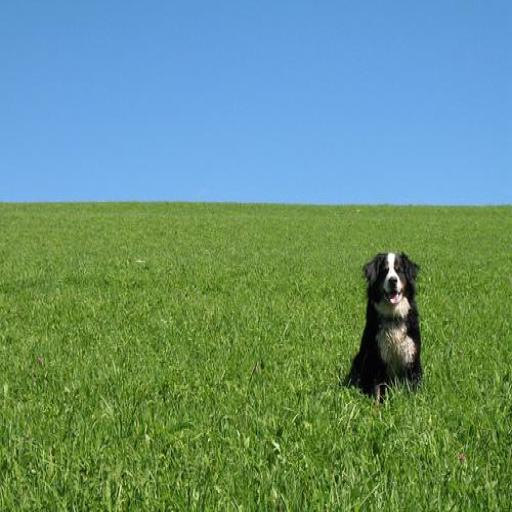dog_face: (361, 249, 435, 322)
